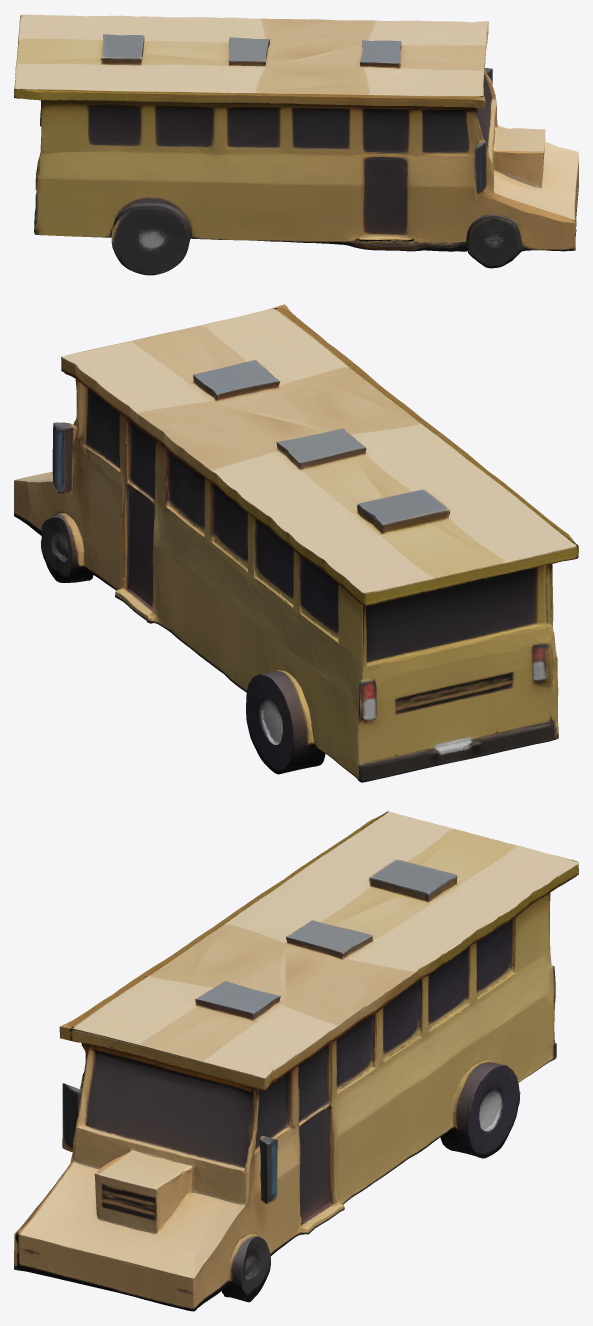
File: before.glb
The picture shows the model from 3 angles, top to bottom: view 1: azimuth 30°, elevation 25°; view 2: azimuth 150°, elevation 25°; view 3: azimuth 270°, elevation 25°; orthographic projection. The views are drawn at different scales.
Parts seen in each view (by area): view 1: world; view 2: world; view 3: world.
Part boxes in pixels (x1,y1,x2,y2): world: (14, 14, 578, 275); world: (14, 304, 578, 782); world: (14, 811, 578, 1311).
Bounding box in the file's own units: 0.9955 × 0.368 × 0.7794.
1 material, 1 textured.
